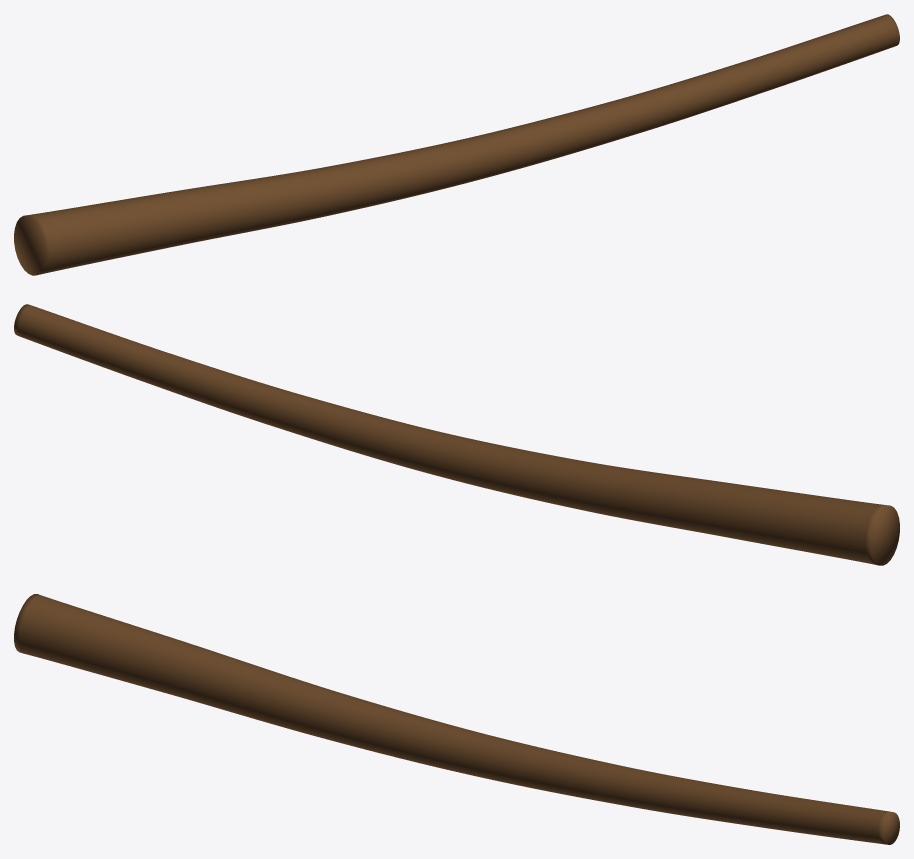
File: stick_c.glb
3 views of the same model, one above another, from view 1: azimuth 30°, elevation 25°; view 2: azimuth 150°, elevation 25°; view 3: azimuth 330°, elevation 25° (orthographic).
Parts seen in each view (by area): view 1: Shaft; view 2: Shaft; view 3: Shaft.
Boxes of the visible parts, bbox=[...] form: Shaft: bbox=[14, 14, 899, 275]; Shaft: bbox=[14, 304, 899, 565]; Shaft: bbox=[14, 594, 899, 844].
Size of the model in its own units: 0.522 by 0.0416 by 0.0321.
